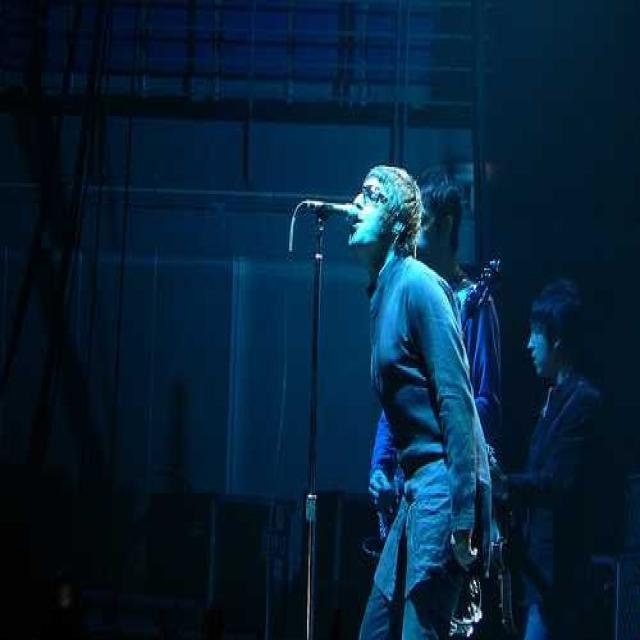microphone: (461, 252, 511, 307), (292, 194, 365, 230)
